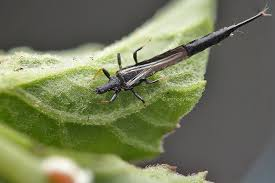Phlaeothripidae: (90, 6, 275, 105)
